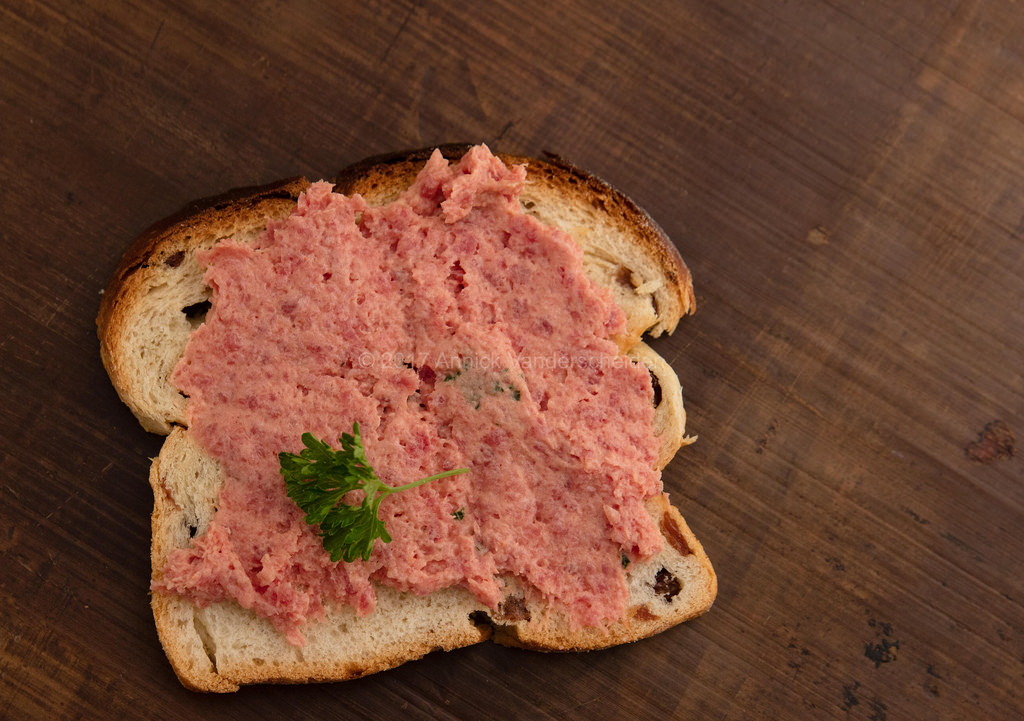slice of bread: (122, 214, 737, 642)
